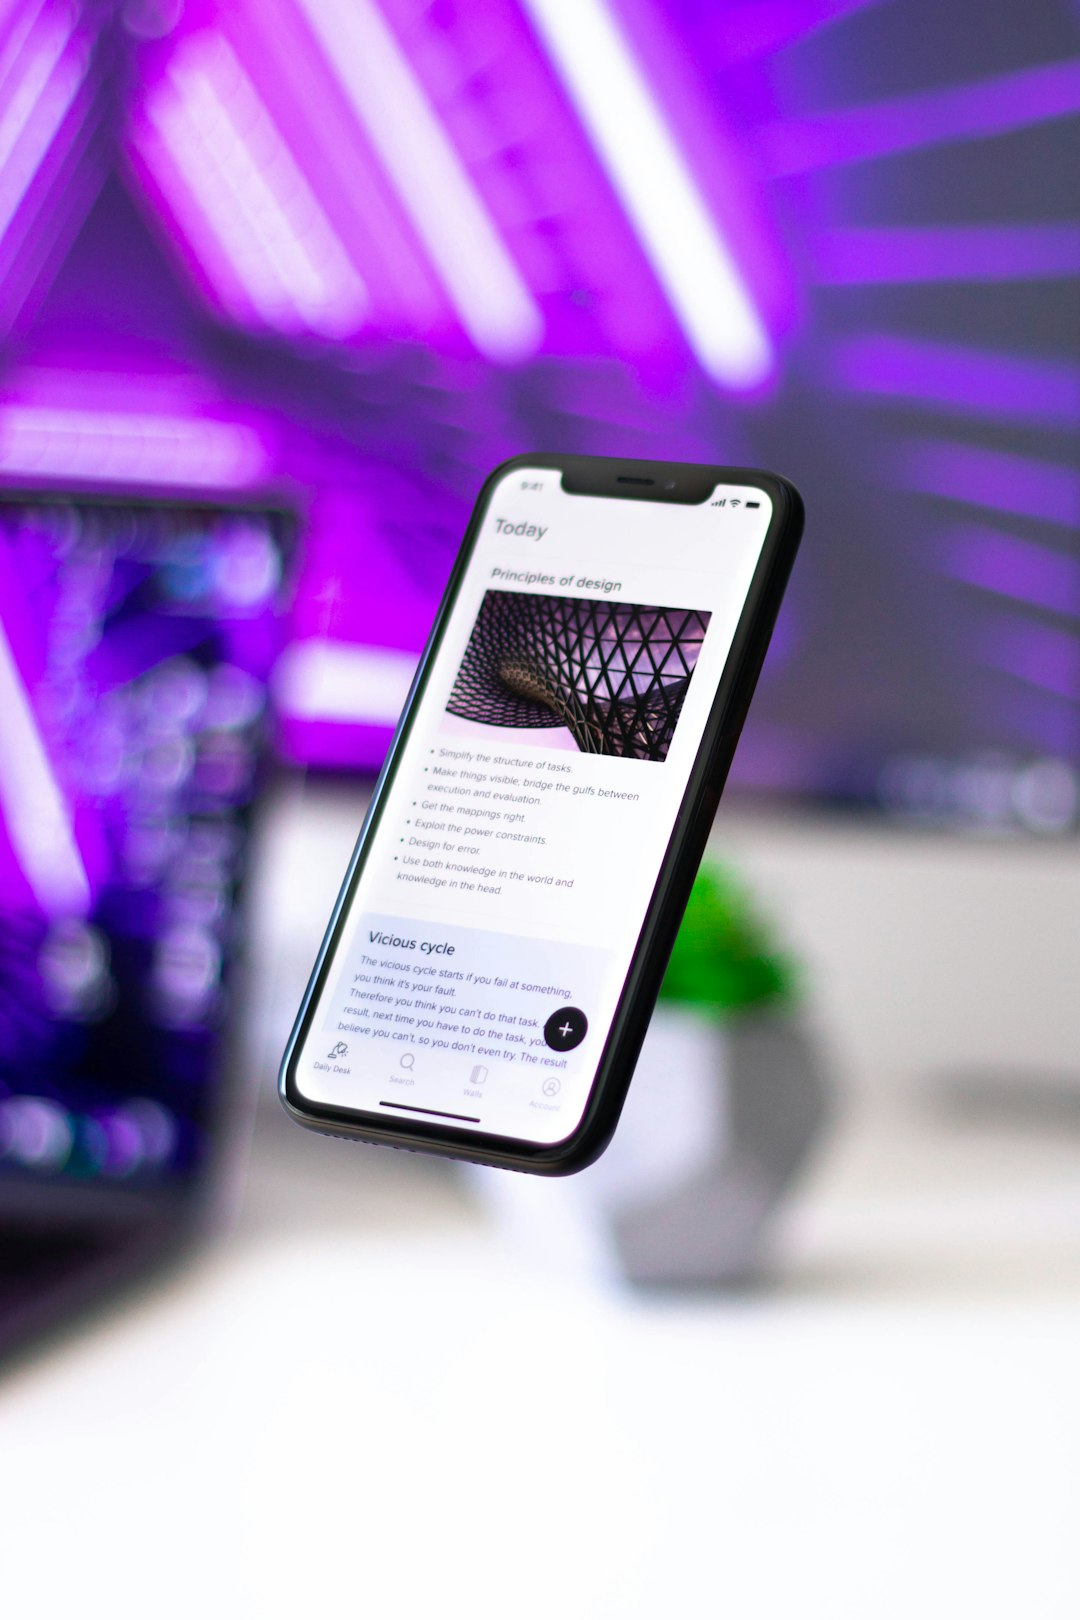phone: (274, 452, 809, 1180)
